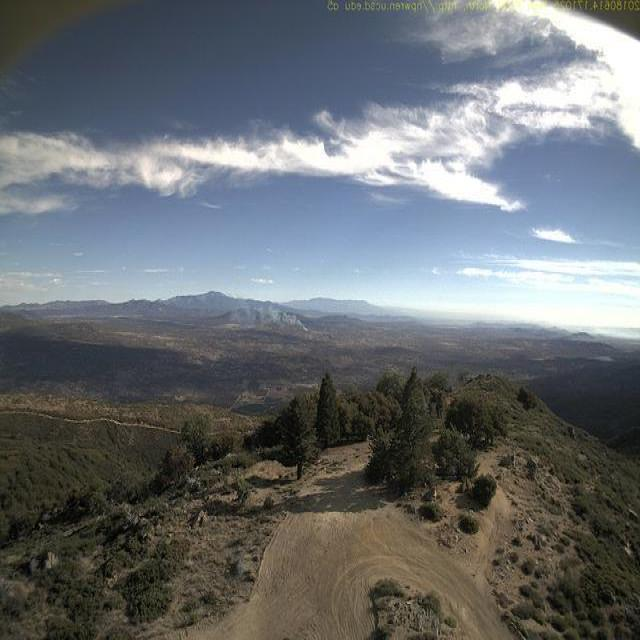smoke: (227, 296, 320, 337)
